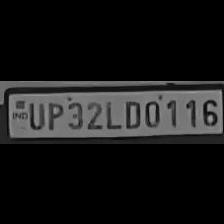0: (141, 96, 161, 128)
1: (162, 95, 180, 127), (181, 96, 197, 127)
2: (84, 97, 102, 128)
3: (64, 98, 84, 128)
6: (198, 95, 218, 125)
D: (120, 96, 142, 128)
L: (103, 96, 120, 128)
P: (44, 98, 64, 130)
U: (25, 97, 43, 128)
